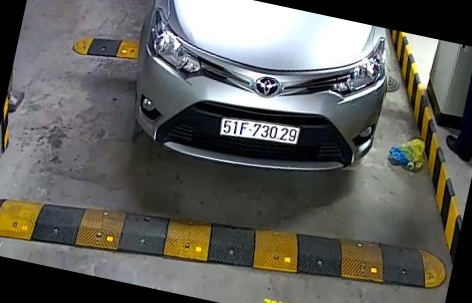plate: (218, 109, 306, 152)
